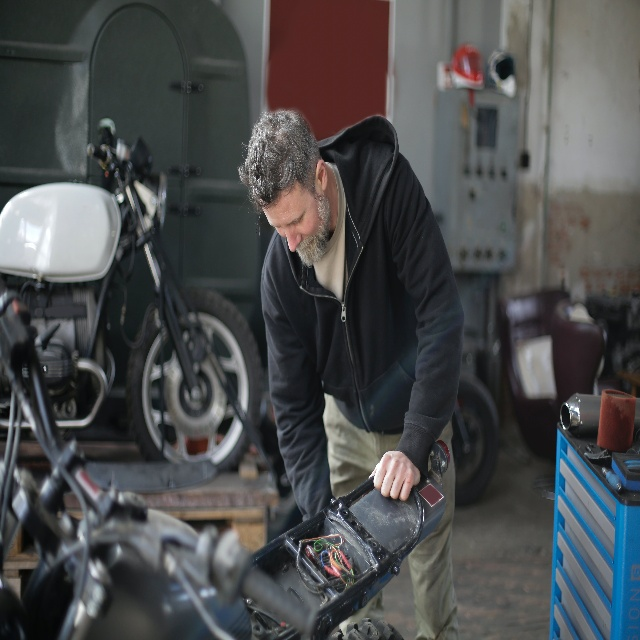Sin_guantes: (370, 447, 418, 496)
